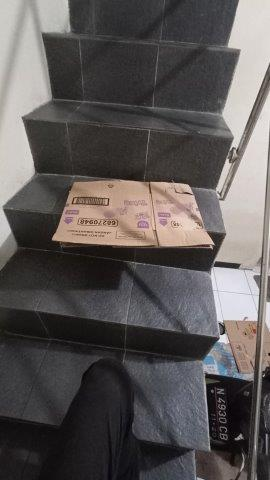kardus: (53, 180, 213, 248), (204, 321, 270, 380)
